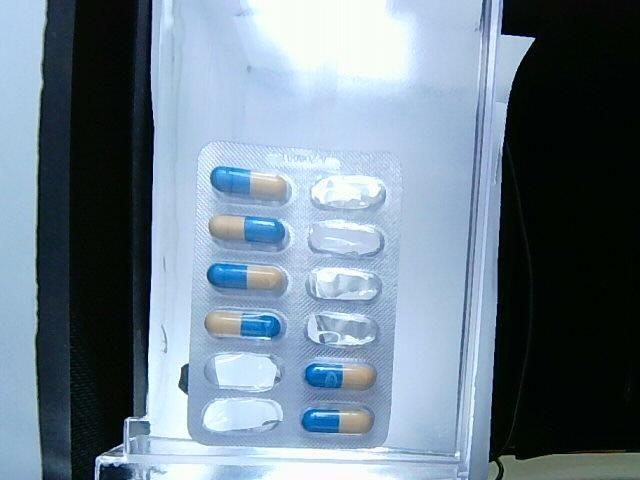Light Front: (188, 142, 404, 451)
No Pill Front: (308, 219, 385, 259), (205, 353, 281, 392), (201, 398, 282, 433), (306, 266, 381, 301), (311, 175, 386, 210), (306, 314, 377, 346)
Pill Front: (209, 215, 292, 251), (211, 166, 291, 202), (206, 263, 288, 296), (205, 310, 285, 339), (304, 363, 376, 389), (301, 408, 374, 433)
